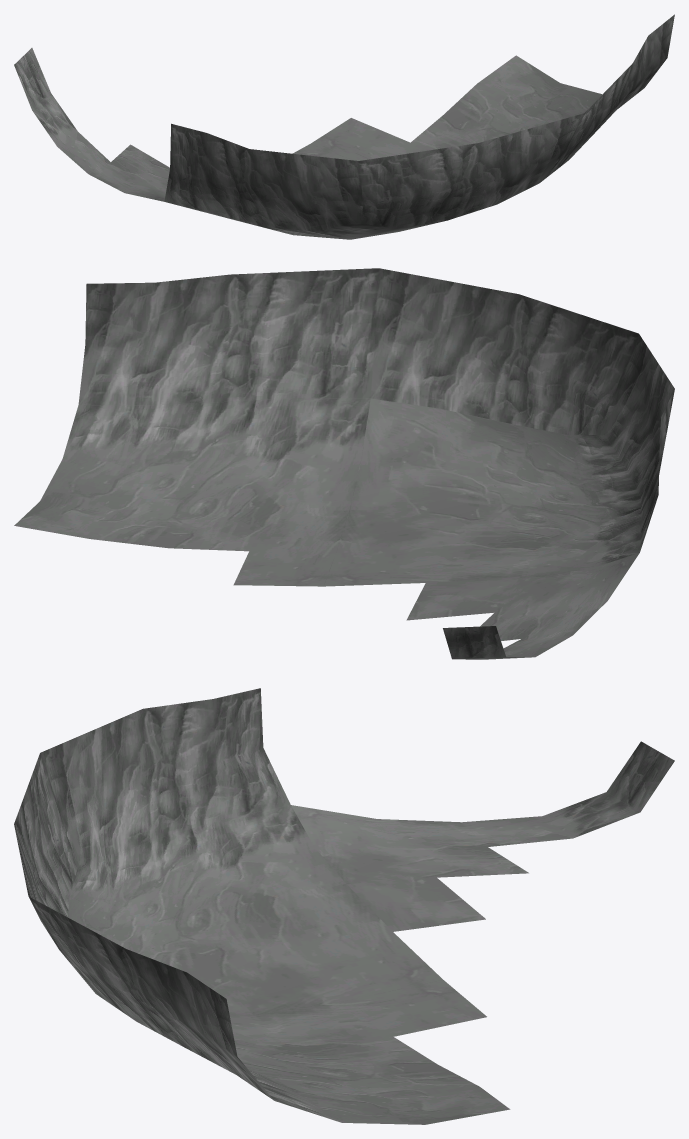
The model's file is SWORDLIGHT20_PS-AREA02_06.fbx.
3 views of the same model, one above another, from view 1: azimuth 30°, elevation 25°; view 2: azimuth 150°, elevation 25°; view 3: azimuth 270°, elevation 25° (orthographic). The views are drawn at different scales.
Parts seen in each view (by area): view 1: SWORDLIGHT20_PS-AREA02_06; view 2: SWORDLIGHT20_PS-AREA02_06; view 3: SWORDLIGHT20_PS-AREA02_06.
Boxes of the visible parts, x1,y1,x2,y2 form: SWORDLIGHT20_PS-AREA02_06: (14,14,674,239); SWORDLIGHT20_PS-AREA02_06: (14,268,674,659); SWORDLIGHT20_PS-AREA02_06: (14,688,674,1124).
Size of the model in its own units: 139684 by 33937 by 123195.
Materials: 3 (3 with a texture image).
